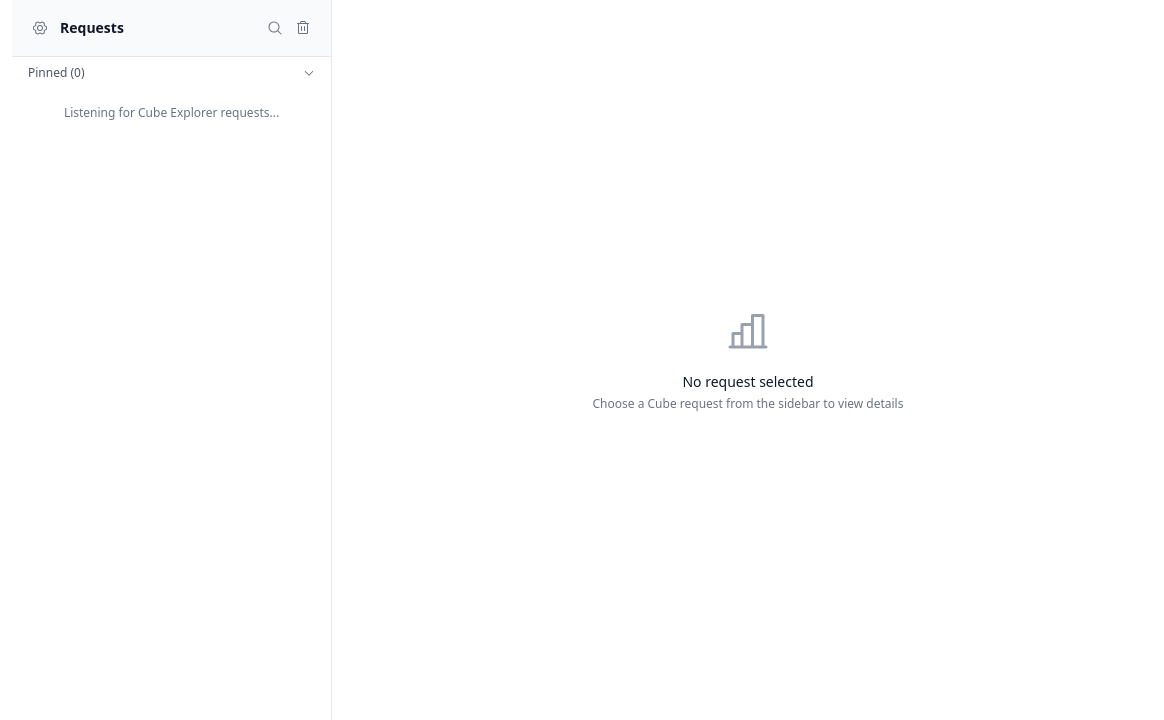
Test: Settings Panel Navigation › clicking back from the settings displays the list again
Note: Open settings
Click the button named "settings". click: click(40, 28)
box: [28,16,52,40]
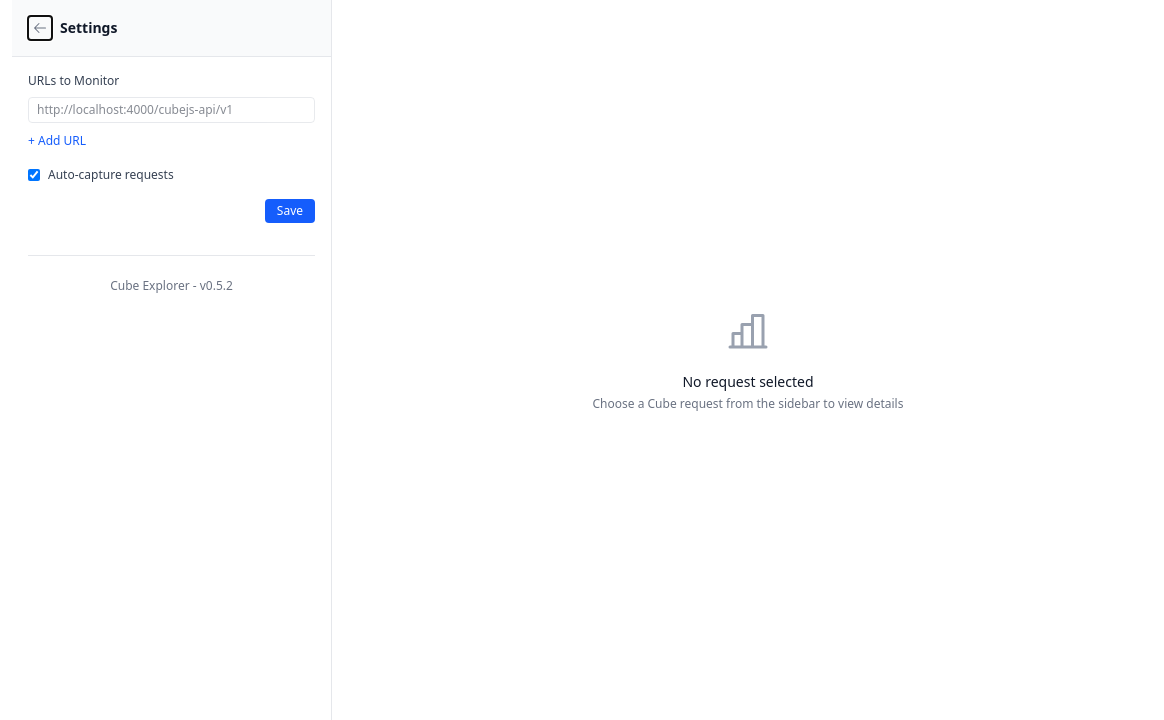
Expected: the heading "Settings" is shown, [60,18,117,38]
Note: Find and click the back button (has title "Requests")
Click the button named "requests". click: click(40, 28)
box: [28,16,52,40]
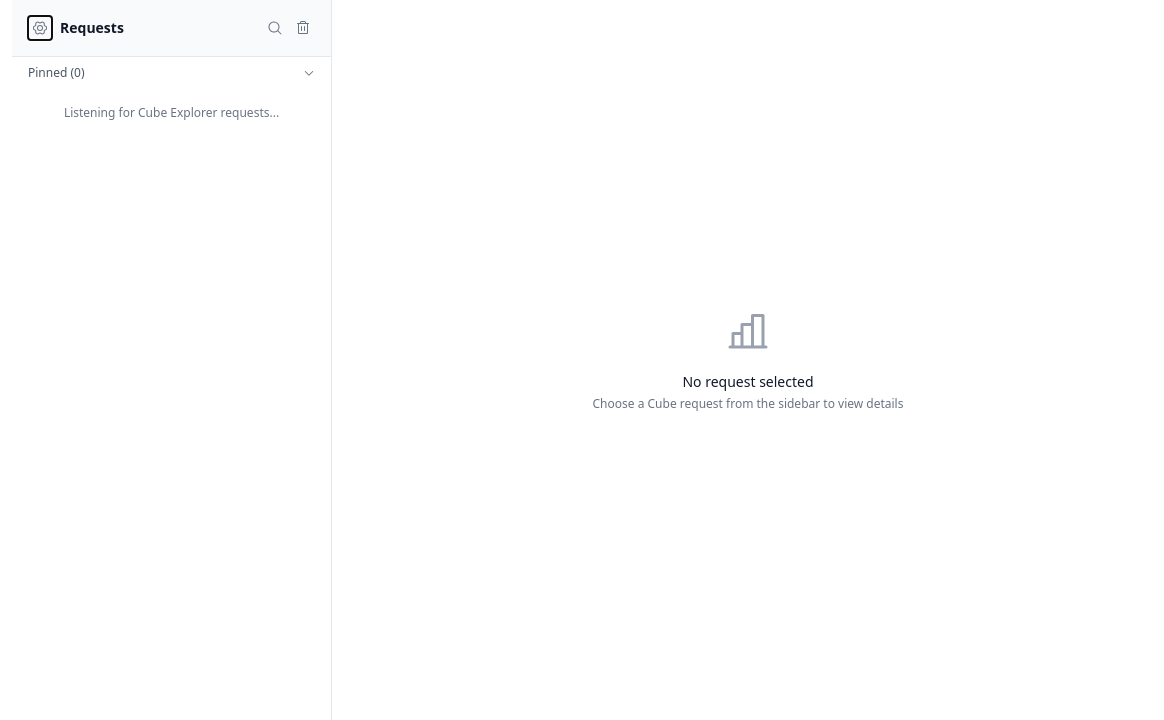
Expected: the heading "Requests" is shown, [60,18,124,38]
Expected: the heading "Settings" is gone
Expected: the text "Listening for Cube Explorer requests..." is shown, [64,104,279,121]
